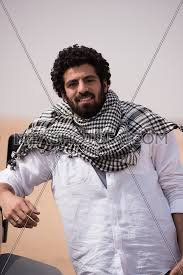middle_eastern_male: (60, 71, 110, 113)
